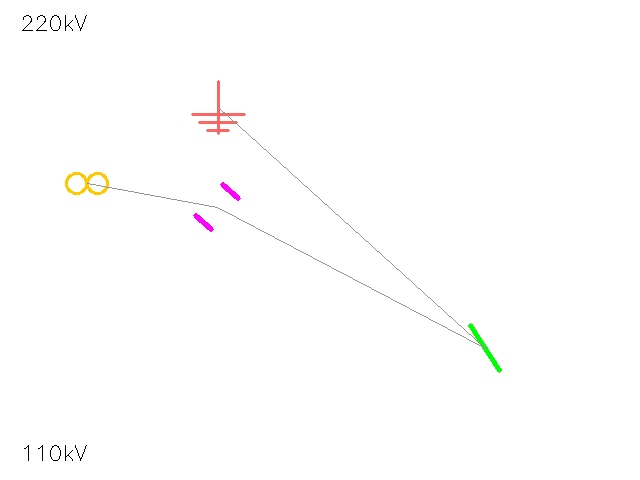busbar: (451, 314, 519, 382)
capacitor: (183, 173, 251, 241)
ground: (192, 81, 244, 133)
transformer_2w: (60, 156, 114, 210)
